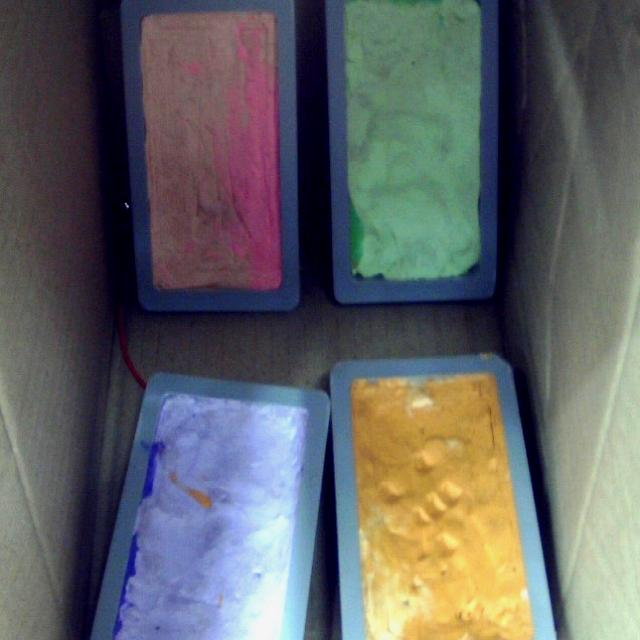block: (332, 351, 563, 640), (88, 375, 324, 640), (119, 3, 300, 314), (324, 0, 498, 305)
